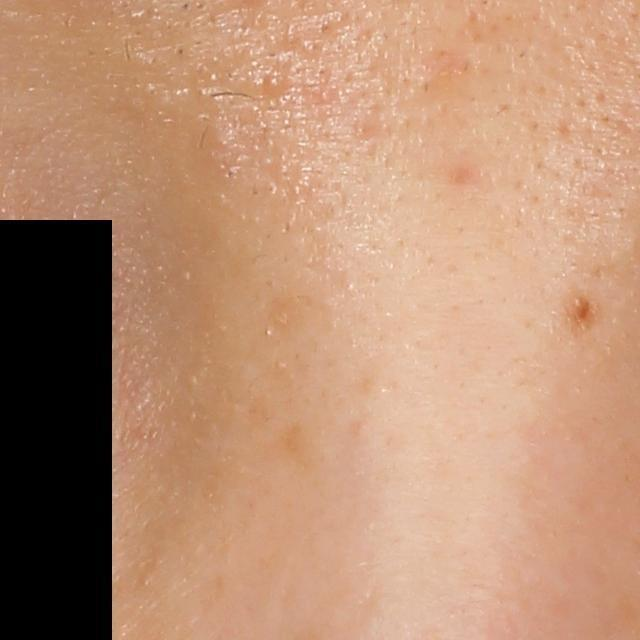comedo: (258, 70, 287, 97)
melasma: (276, 419, 320, 479)
nevus: (561, 290, 612, 345)
